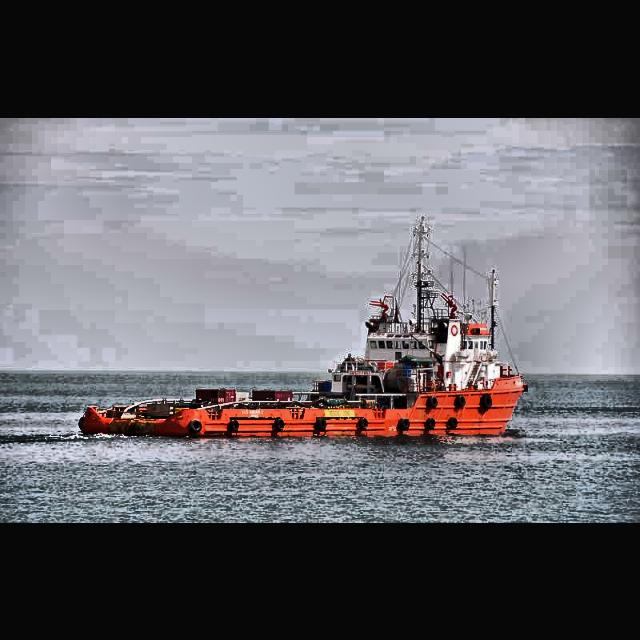anchor_handling_tug_supply: (77, 276, 531, 438)
